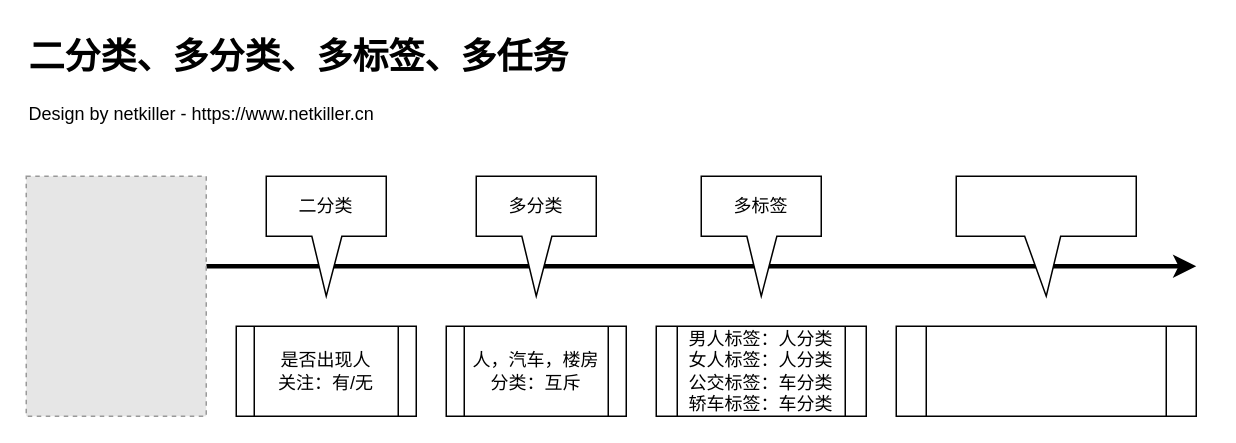
Image size: 1236x443. Some labels were removed from this diagram. Grey dashed boxes stand in for pictures. The shapes that lost their labels are listed below. From the top down, each one's centre as x and y in pixels, then its label:
At (1045,235): "多任务分类".
At (1045,370): "人：男人+黄色衣服+眼镜 疾病：肿瘤+出血+大小 汽车：公交+蓝色".
